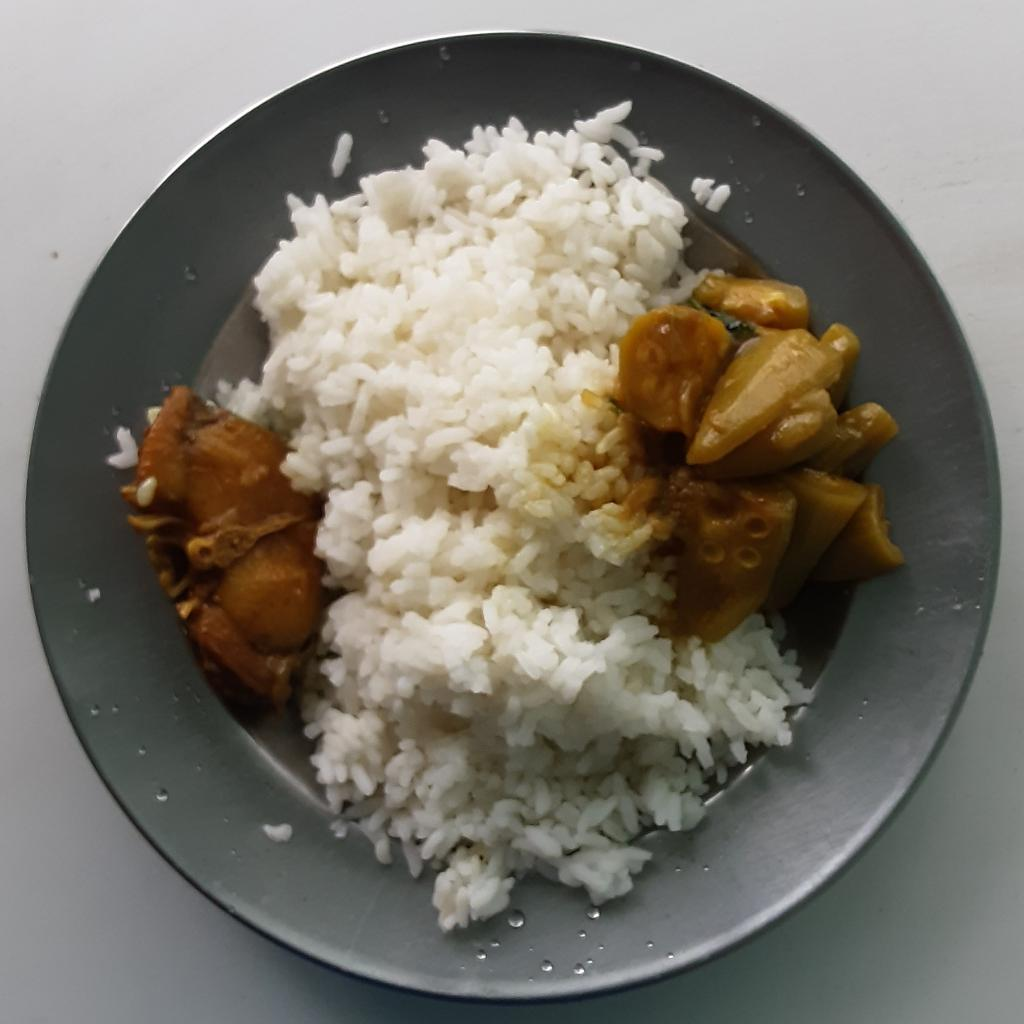fish: (119, 384, 322, 703)
potol: (626, 275, 917, 650)
rice: (219, 98, 814, 933)
